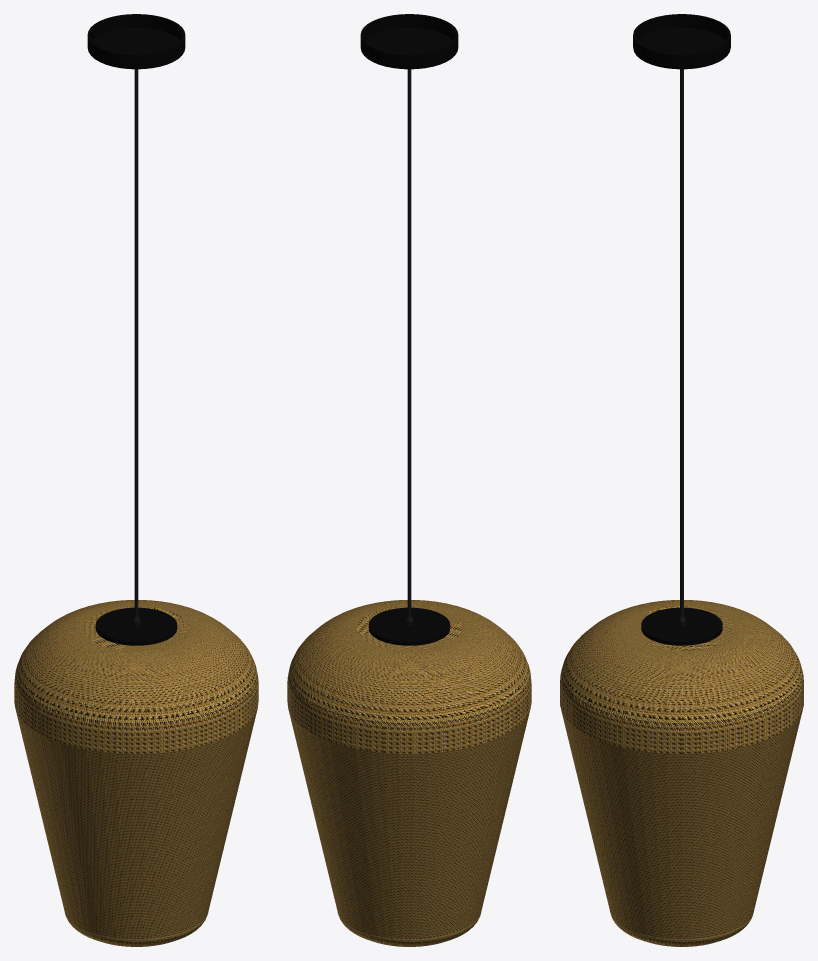
Rendered from 001.3_Sistevenca.glb.
3 views of the same model, side by side, from view 1: azimuth 30°, elevation 25°; view 2: azimuth 150°, elevation 25°; view 3: azimuth 270°, elevation 25° (orthographic).
Visible parts, largest first — view 1: root; view 2: root; view 3: root.
Part boxes in pixels (<box>): root: <box>14,14,258,946</box>; root: <box>287,14,531,946</box>; root: <box>560,14,803,946</box>.
Bounding box in the file's own units: 0.3 × 1.2 × 0.2994.
8 materials, 3 textured.
